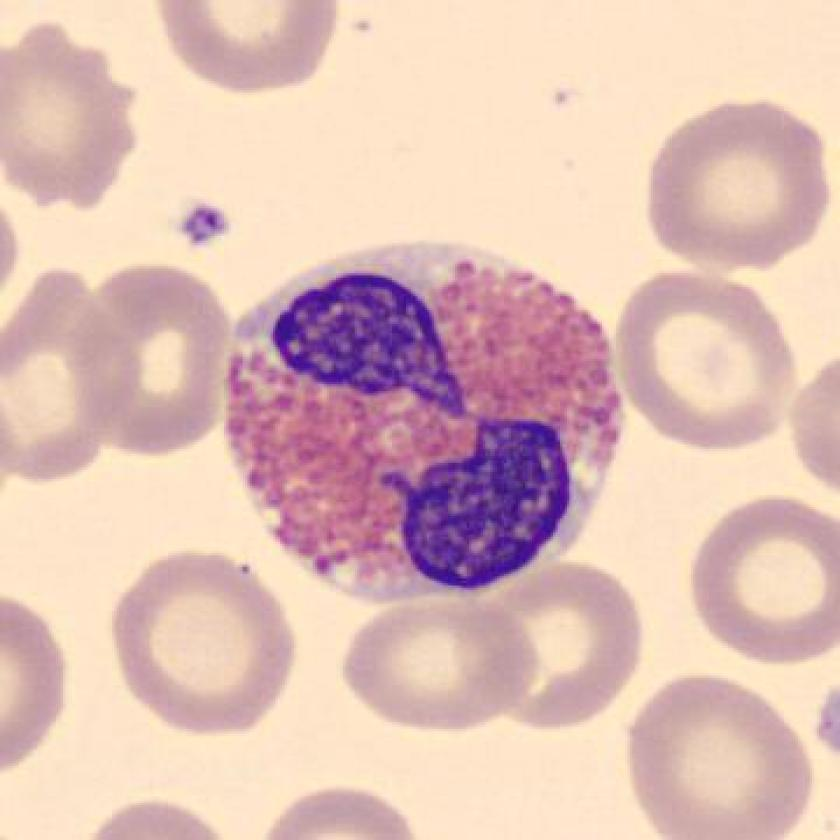eosinophil: (209, 230, 636, 626)
